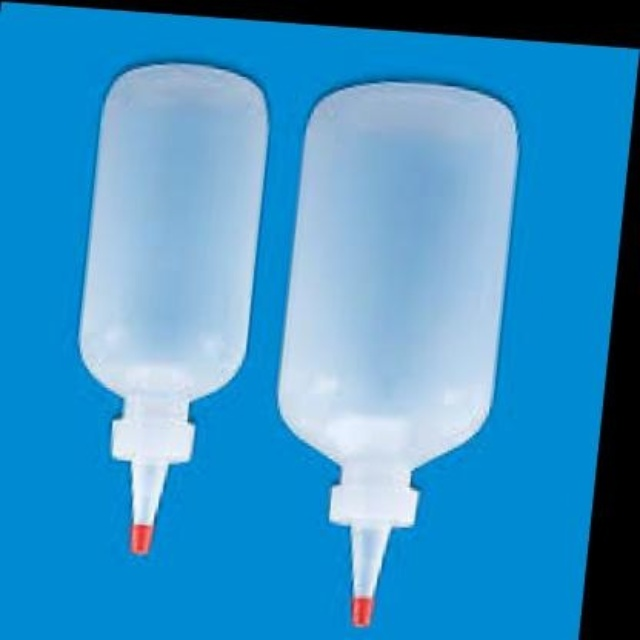trash: (278, 82, 517, 625), (80, 63, 266, 552)
